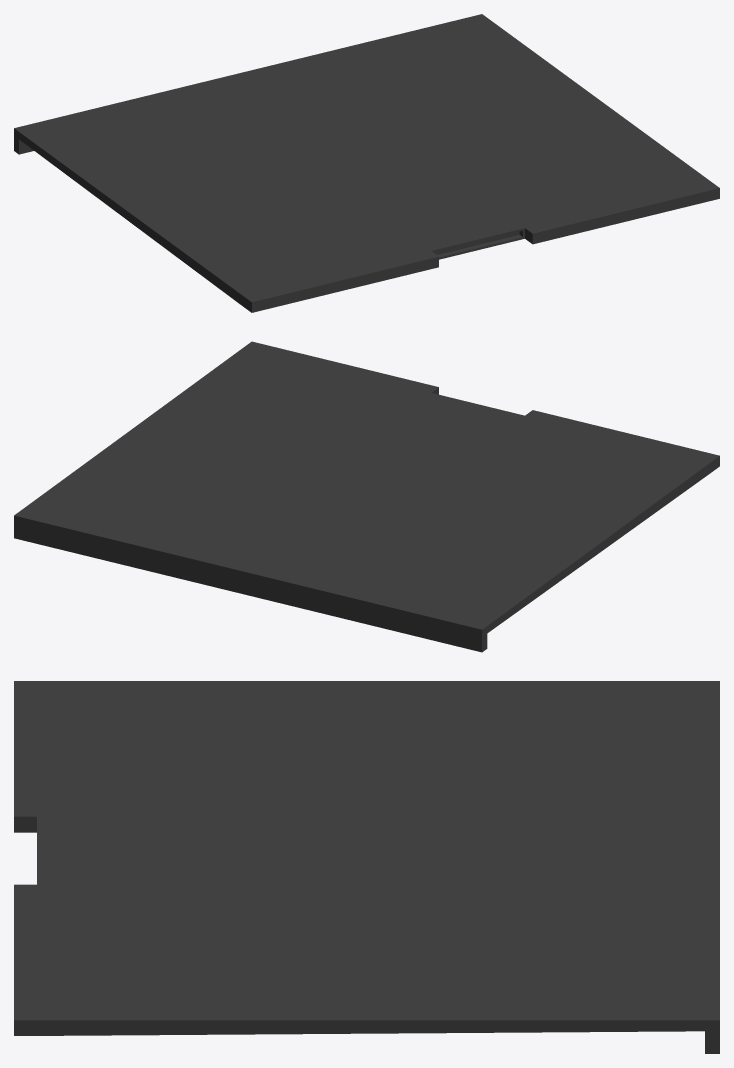
Rendered from PrinterV2_Top.fbx.
3 renders of one model, top to bottom at view 1: azimuth 30°, elevation 25°; view 2: azimuth 150°, elevation 25°; view 3: azimuth 270°, elevation 25°, orthographic. The views are drawn at different scales.
Parts seen in each view (by area): view 1: PrinterV2_Top; view 2: PrinterV2_Top; view 3: PrinterV2_Top.
Part boxes in pixels (left/top/right/bottom): PrinterV2_Top: left=14, top=14, right=719, bottom=312; PrinterV2_Top: left=14, top=341, right=719, bottom=652; PrinterV2_Top: left=14, top=681, right=719, bottom=1053.
Bounding box in the file's own units: 42.29 × 1.96 × 37.21.
